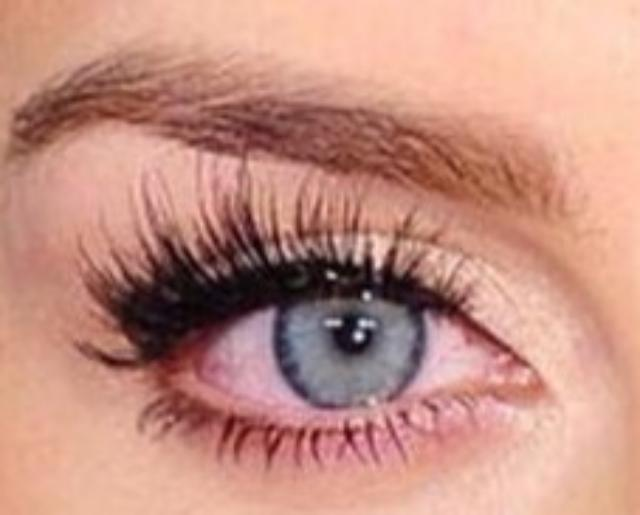eye: (268, 256, 432, 412)
